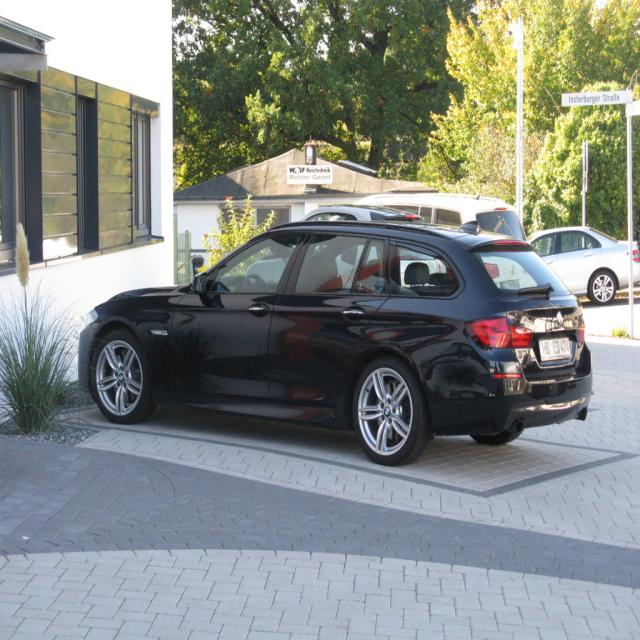car: (87, 214, 595, 467)
